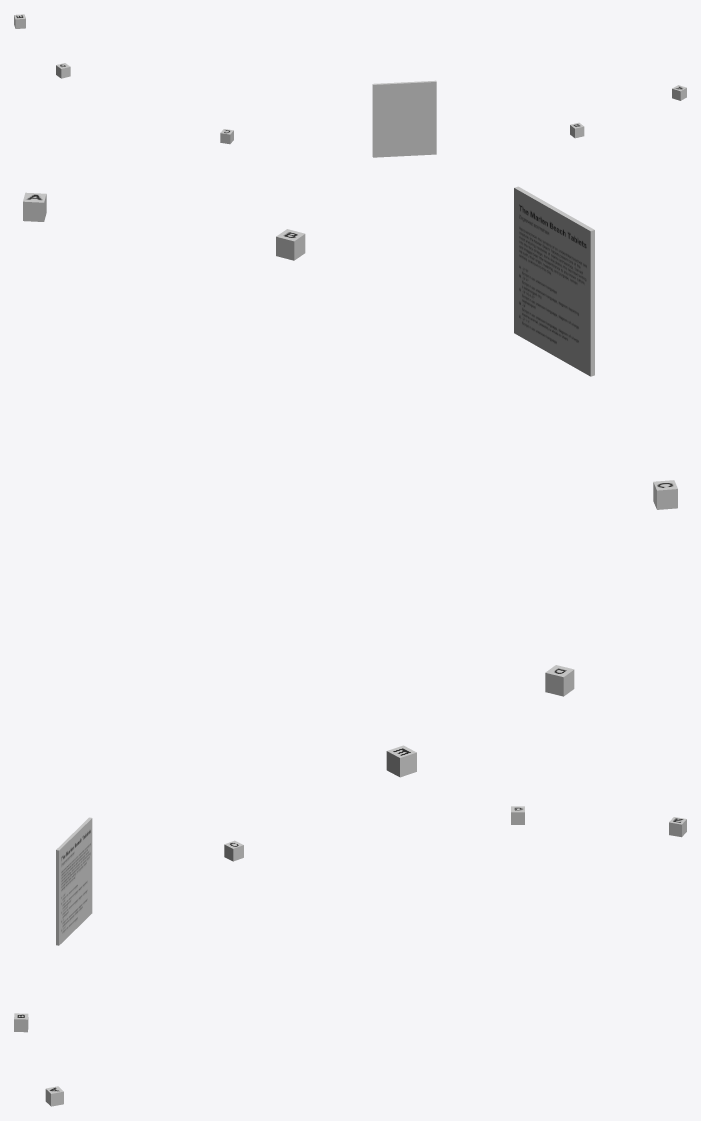
File: tablet_plaque.fbx
3 views of the same model, one above another, from view 1: azimuth 30°, elevation 25°; view 2: azimuth 150°, elevation 25°; view 3: azimuth 270°, elevation 25° (orthographic). The views are drawn at different scales.
Parts seen in each view (by area): view 1: tablet_sign; view 2: tablet_sign; view 3: tablet_sign.
Part boxes in pixels (x1,y1,x2,y2): tablet_sign: (372, 80, 436, 157); tablet_sign: (514, 186, 594, 376); tablet_sign: (56, 817, 92, 945).
Size of the model in its own units: 247 by 39.19 by 244.
Materials: 1 (1 with a texture image).
